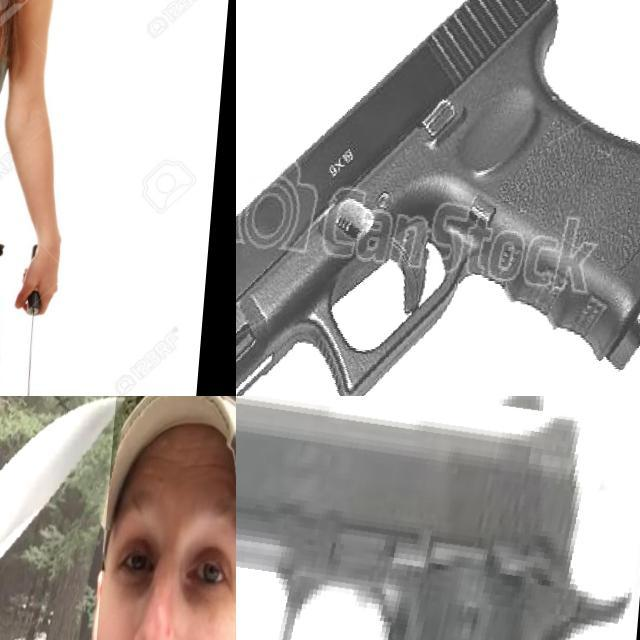-: (0, 396, 166, 640)
gun-knife-thesis - v11 Yolov5 augmented: (236, 0, 640, 396), (236, 396, 640, 640), (0, 0, 44, 62)
